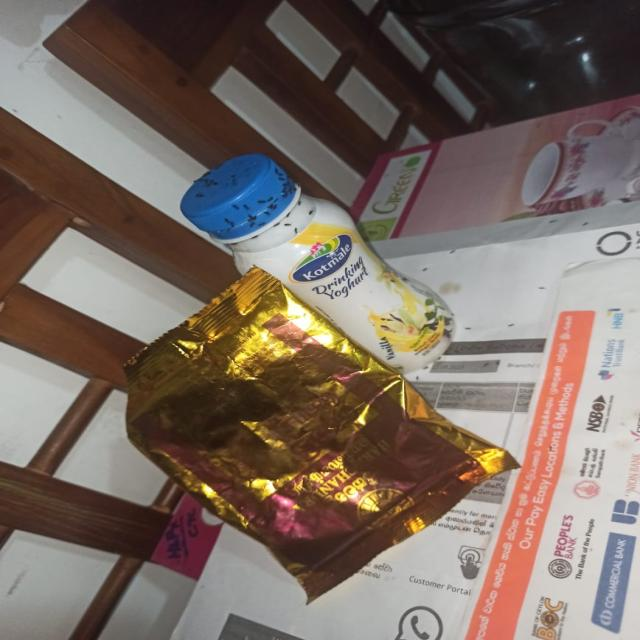Harischandra Coffee: (71, 303, 523, 576)
